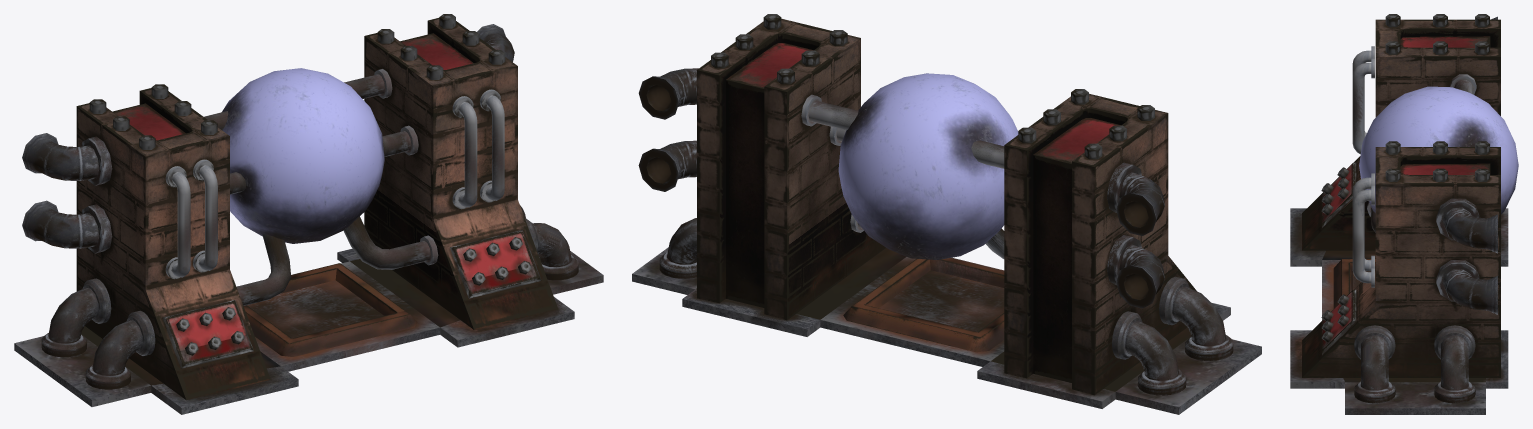
3 renders of one model, left to right at view 1: azimuth 30°, elevation 25°; view 2: azimuth 150°, elevation 25°; view 3: azimuth 270°, elevation 25°, orthographic. The views are drawn at different scales.
Visible parts, largest first — view 1: Power_plant_Base_0, Power_plant_Details_0; view 2: Power_plant_Base_0, Power_plant_Details_0; view 3: Power_plant_Base_0, Power_plant_Details_0.
Part boxes in pixels (bbox=[...]): Power_plant_Base_0: bbox=[76, 14, 558, 400]; Power_plant_Details_0: bbox=[14, 24, 603, 414]; Power_plant_Base_0: bbox=[646, 14, 1196, 395]; Power_plant_Details_0: bbox=[632, 68, 1261, 414]; Power_plant_Base_0: bbox=[1302, 14, 1500, 382]; Power_plant_Details_0: bbox=[1290, 16, 1518, 414].
Size of what is drawn, in the model's own units: 2584 by 1112 by 1102.
Materials: 2 (2 with a texture image).
